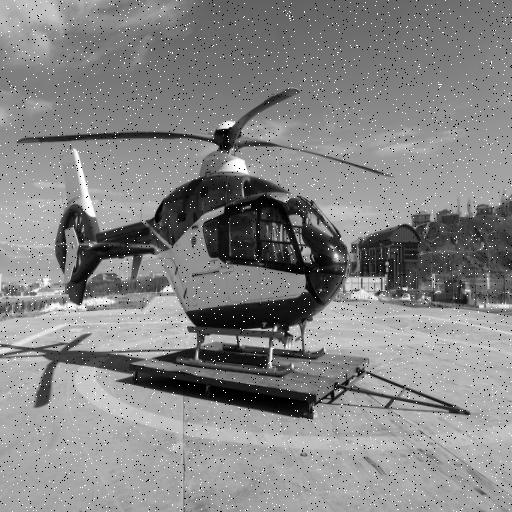helicopter: (16, 64, 400, 435)
